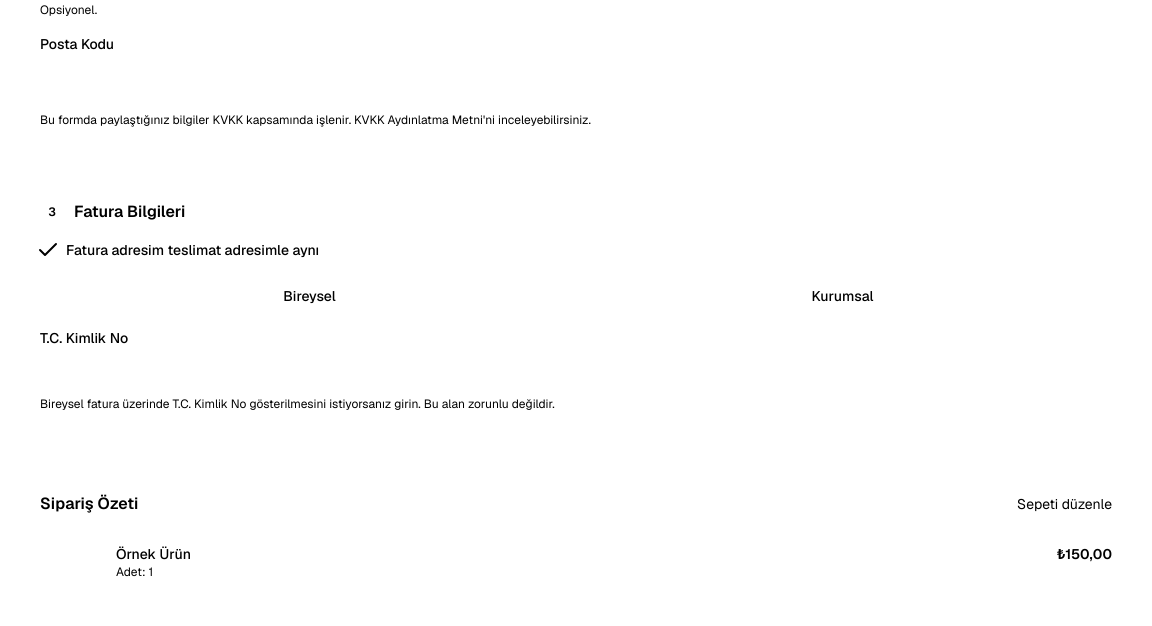
Test: CheckoutPage — form doğrulaması › kurumsal fatura seçilip vergi no boş bırakılırsa doğrulama hatası gösterir
(page scrolled)
Step 1. Click the radio button labelled "Kurumsal" → click(842, 296), box [812,287,873,305]
(page scrolled)
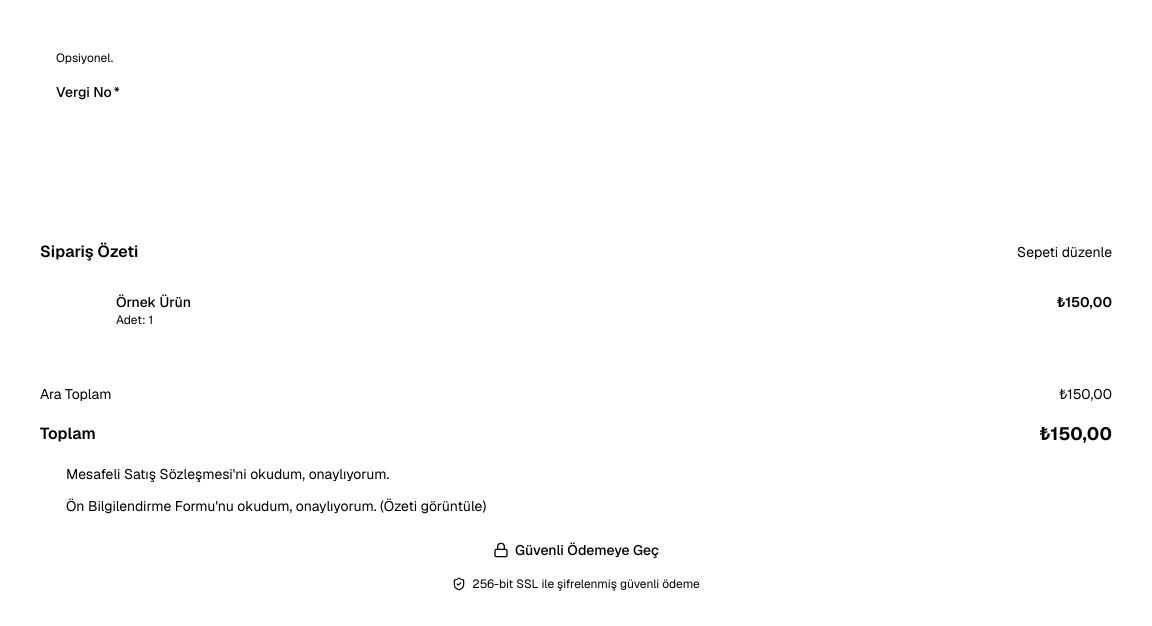
Step 2. Click the button "Güvenli Ödemeye Geç" → click(576, 550), box [40,532,1112,568]
(page scrolled)
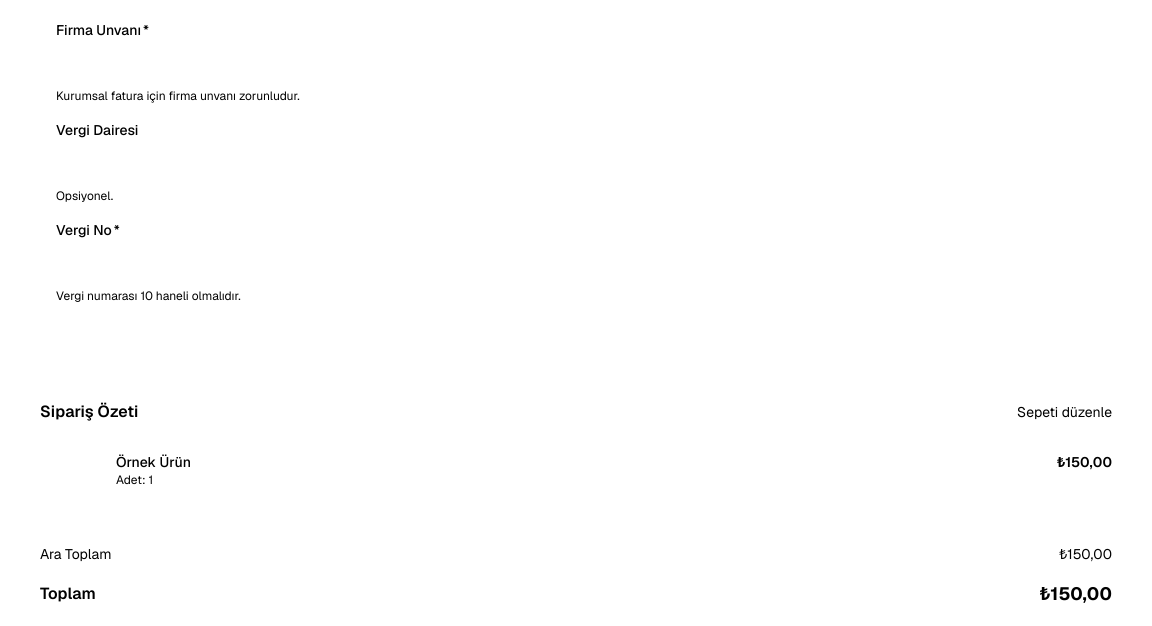
expect the text "Kurumsal fatura için firma unvanı zorunludur." is shown: met, box [56,88,300,104]
expect the text "Vergi numarası 10 haneli olmalıdır." is shown: met, box [56,288,241,304]
